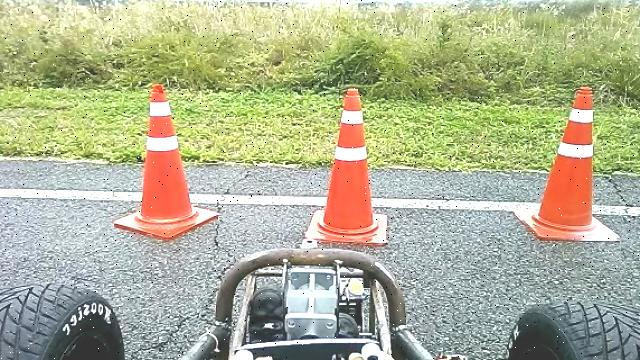red cone: (113, 83, 220, 240), (515, 84, 621, 242), (304, 84, 389, 244)
